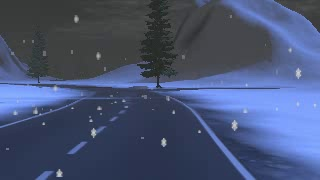Lane: (0, 82, 251, 179)
